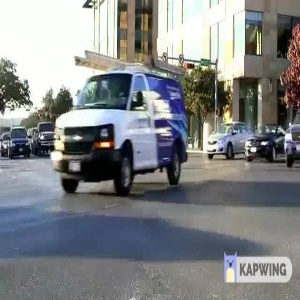car: (204, 117, 256, 159), (241, 120, 289, 165)
van: (37, 63, 200, 200), (7, 121, 31, 161)
